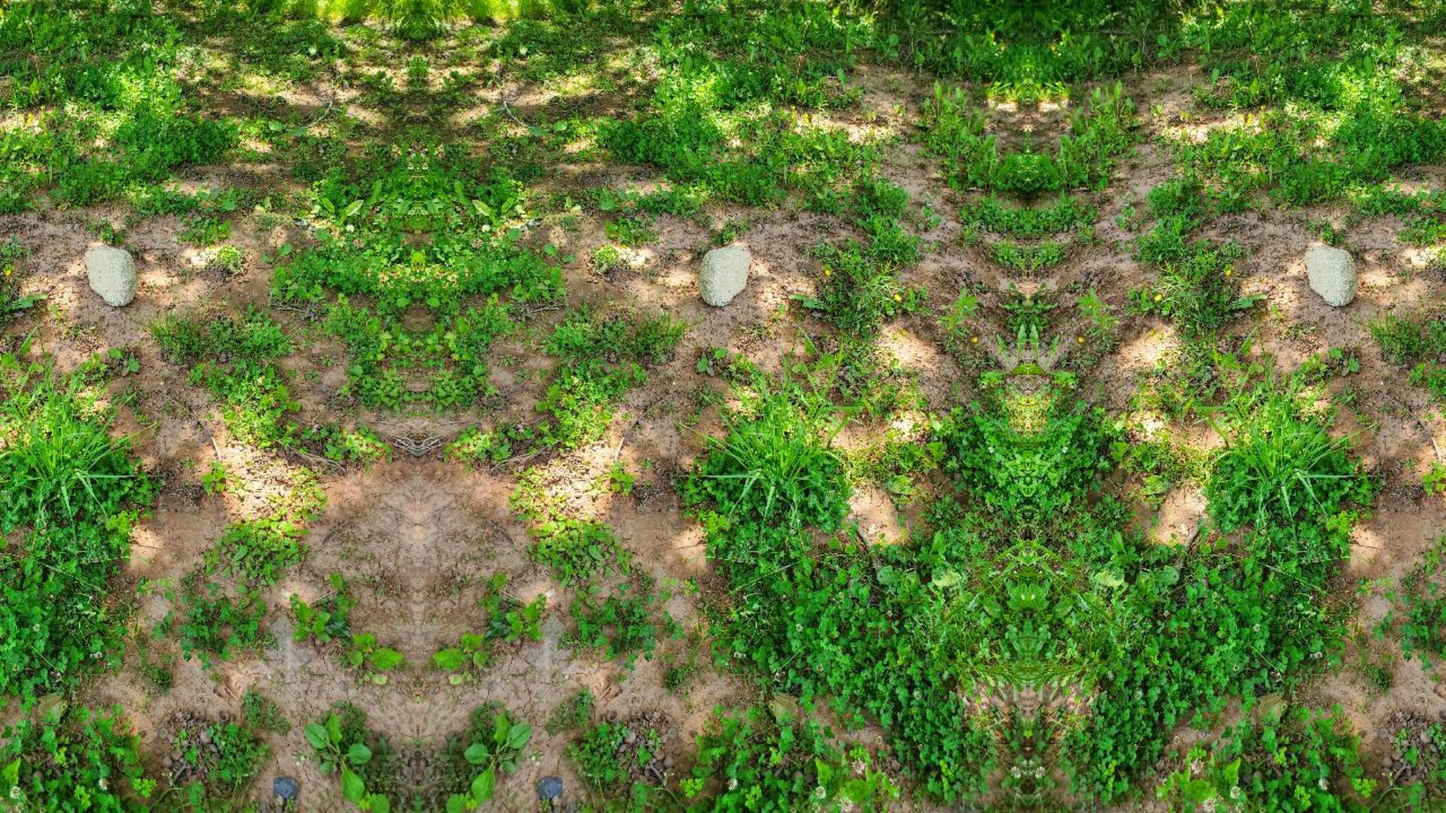rock: (84, 244, 138, 306), (1305, 246, 1358, 306), (699, 244, 750, 306)
